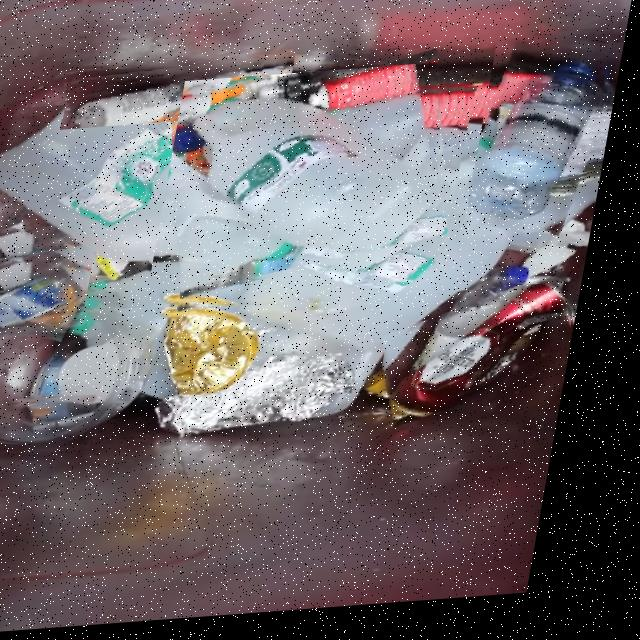litter: (0, 82, 480, 337), (156, 68, 471, 304), (471, 35, 630, 245), (389, 291, 594, 424), (63, 58, 297, 131), (0, 245, 104, 342)
